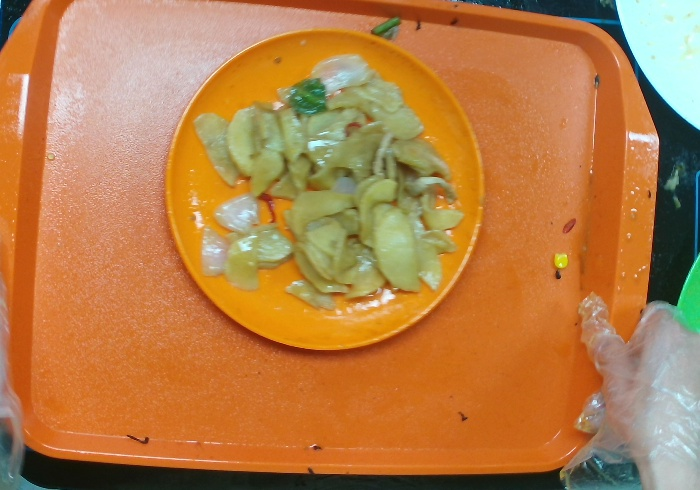HZYJPL-Ju_Huang_Yuan_Pan: (154, 25, 497, 369)
